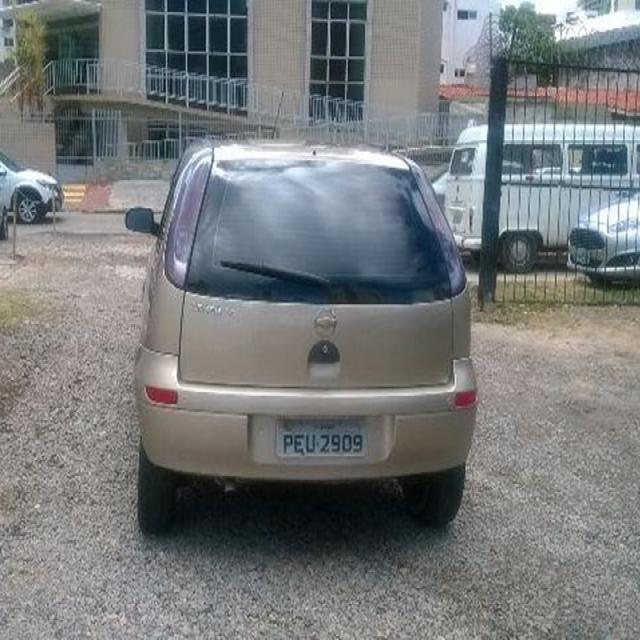Placa: (272, 412, 369, 460)
